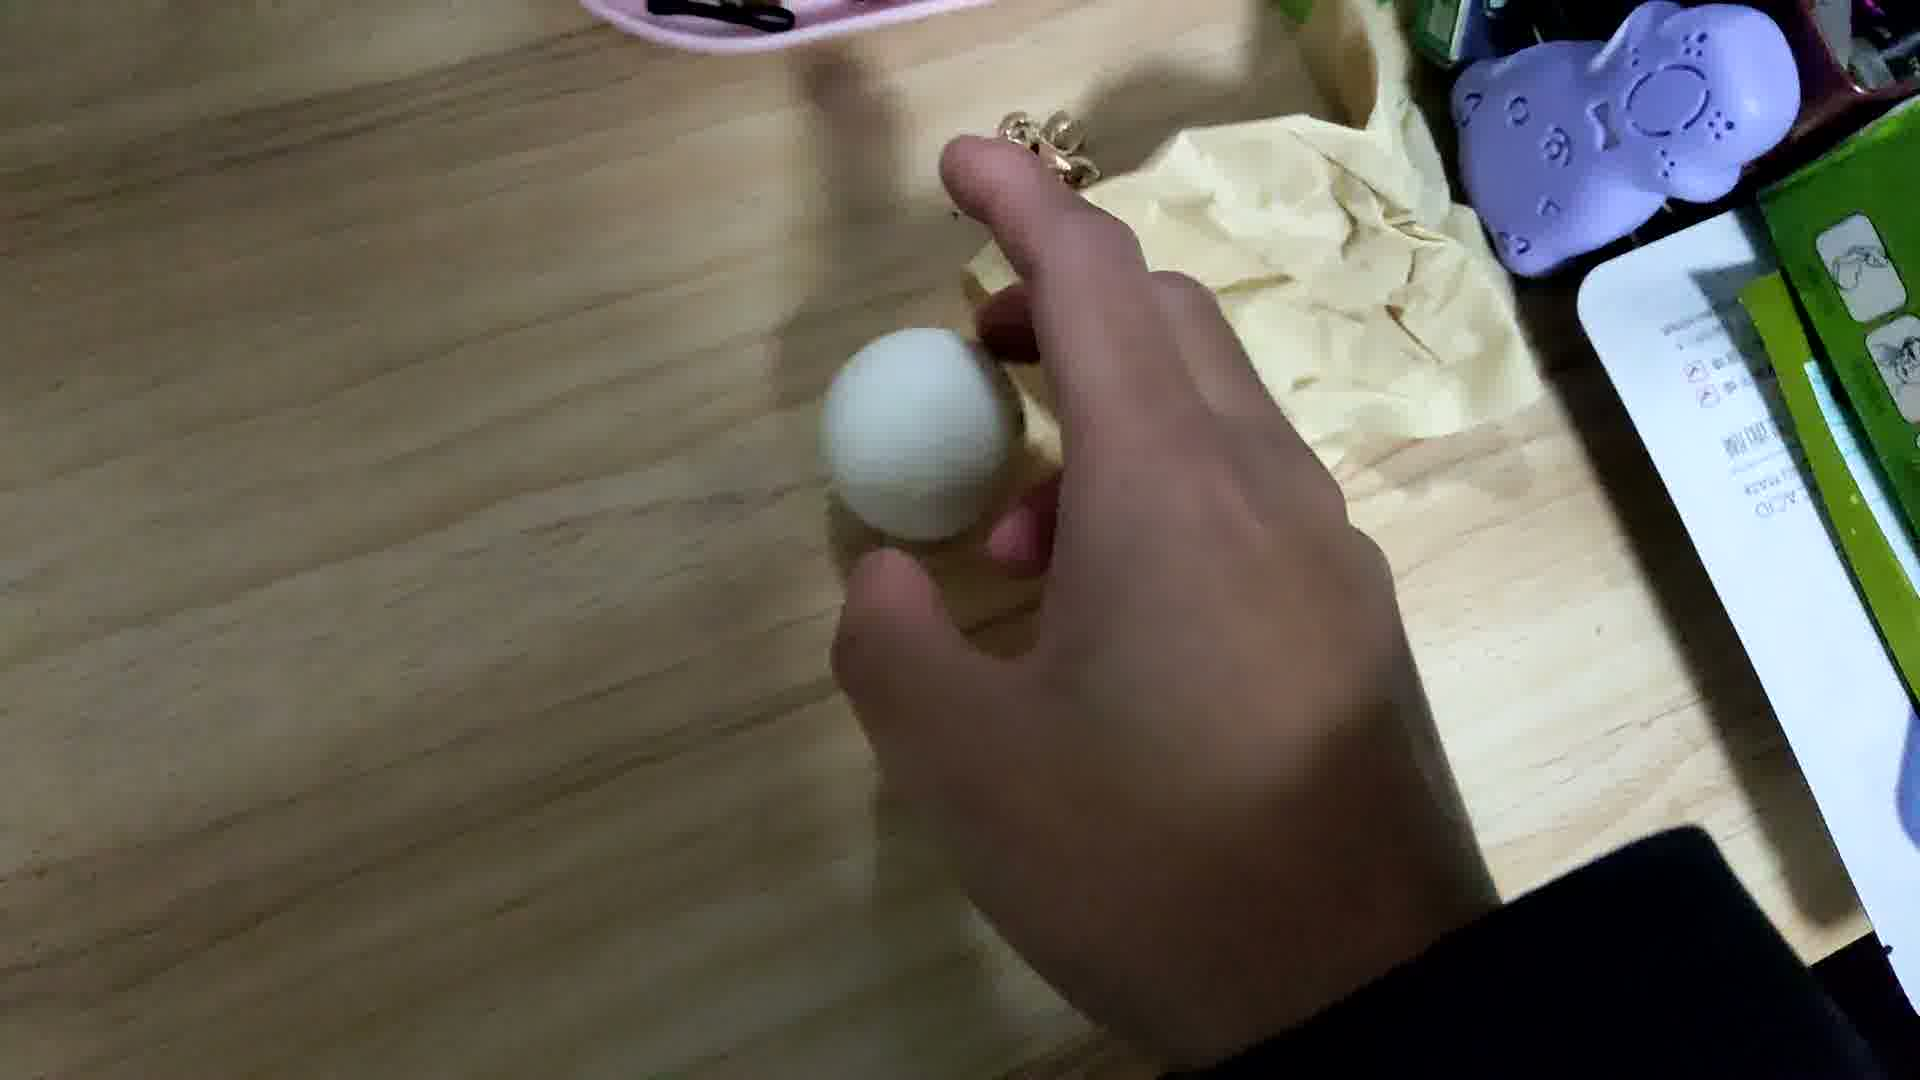Ball: (820, 328, 1030, 542)
